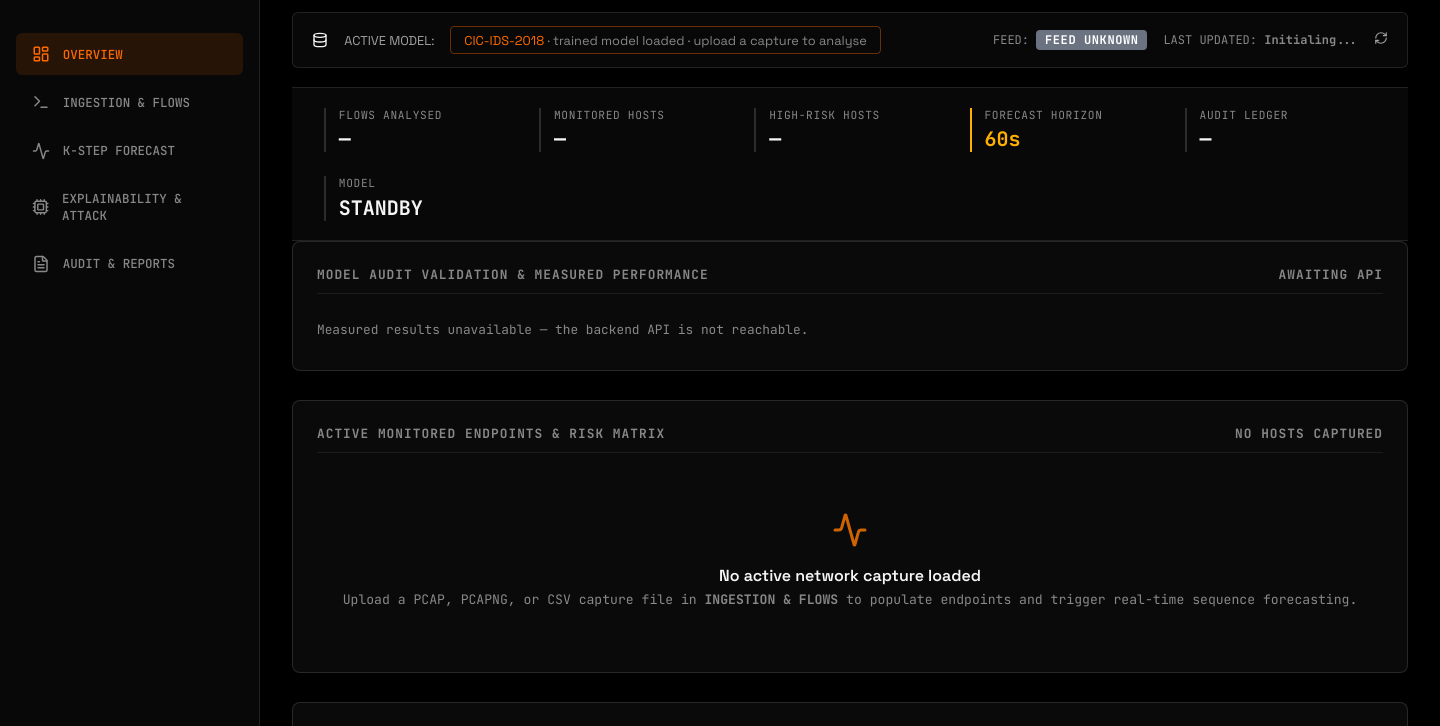
Test: Dashboard demo loading › shows the server error when a load fails
What coordinates should you click on to do the following:
click the button "INGESTION & FLOWS"
I would click on:
 (130, 102)
Its box is top-left (16, 81), bottom-right (243, 123).
(page scrolled)
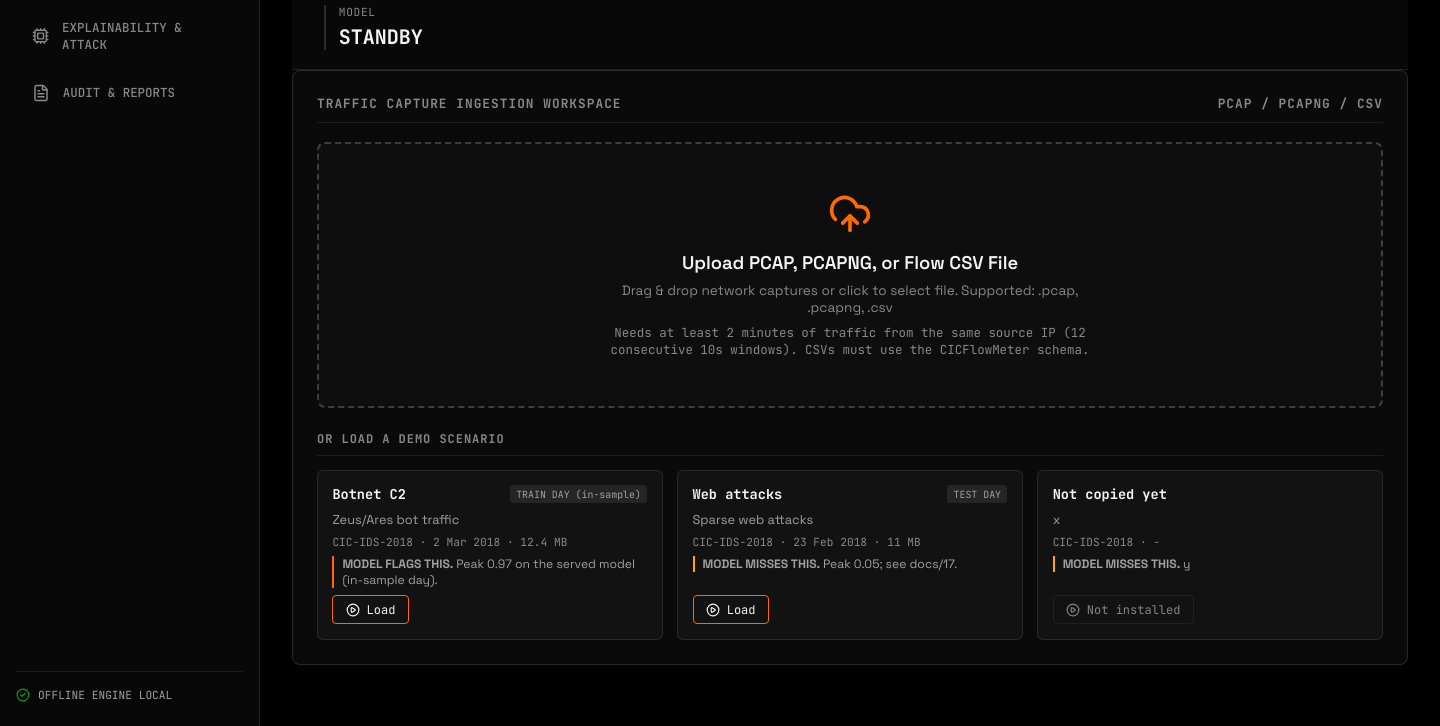
What coordinates should you click on to do the following:
click the button "Load" below "Peak 0.05; see docs/17."
I would click on:
 (731, 610)
Its box is top-left (692, 595), bottom-right (769, 624).
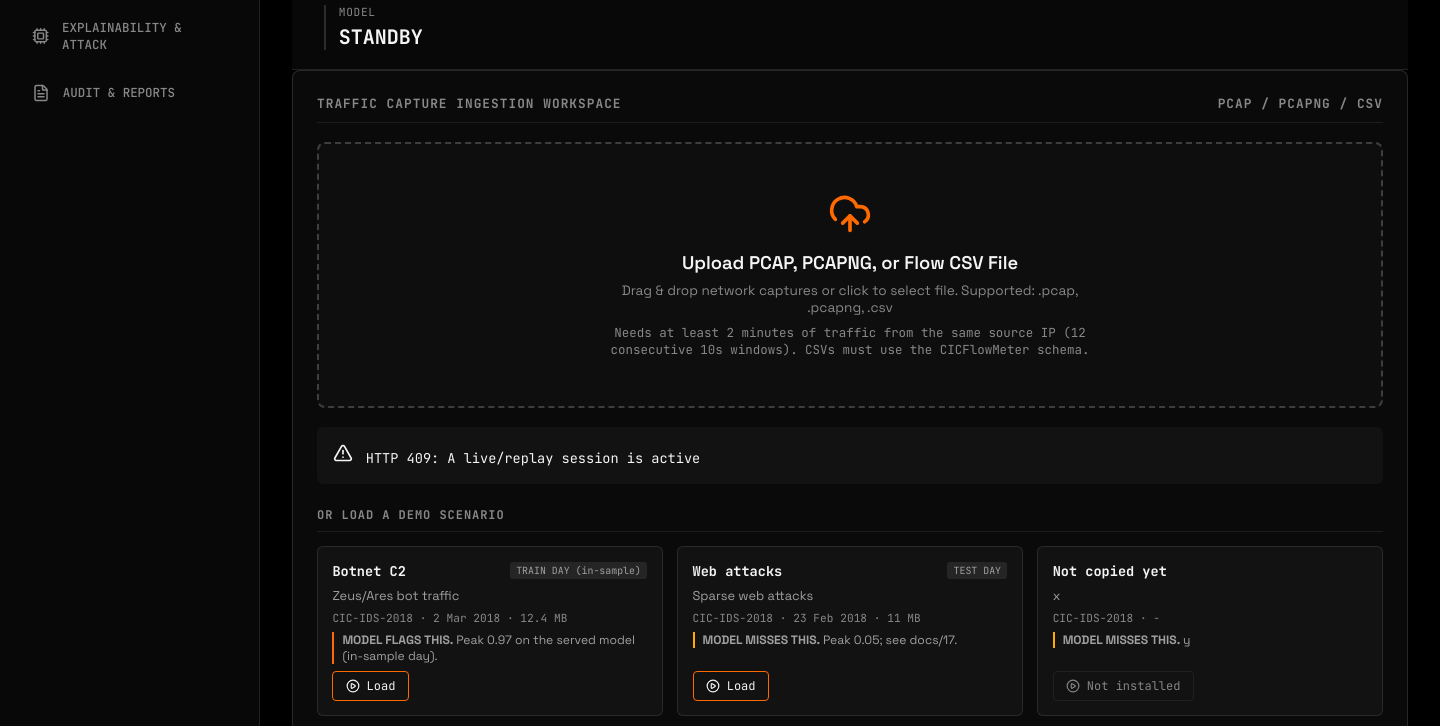
expect the text "HTTP 409: A live/replay session is active" is shown: met, box top-left (366, 449), bottom-right (700, 467)
